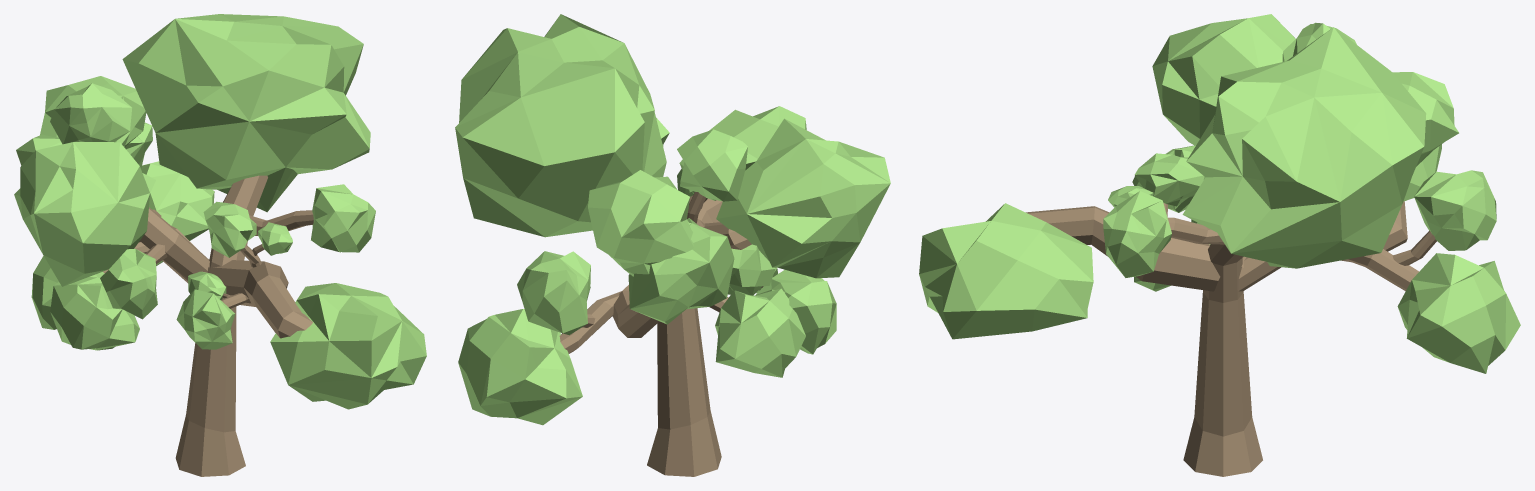
The model's file is tree.fbx.
3 views of the same model, side by side, from view 1: azimuth 30°, elevation 25°; view 2: azimuth 150°, elevation 25°; view 3: azimuth 270°, elevation 25° (orthographic). The views are drawn at different scales.
Visible parts, largest first — view 1: tree; view 2: tree; view 3: tree.
Part boxes in pixels (x1,y1,x2,y2): tree: (14,14,426,476); tree: (455,14,890,476); tree: (919,14,1520,476).
Size of the model in its own units: 27.5 by 29.28 by 36.22.
